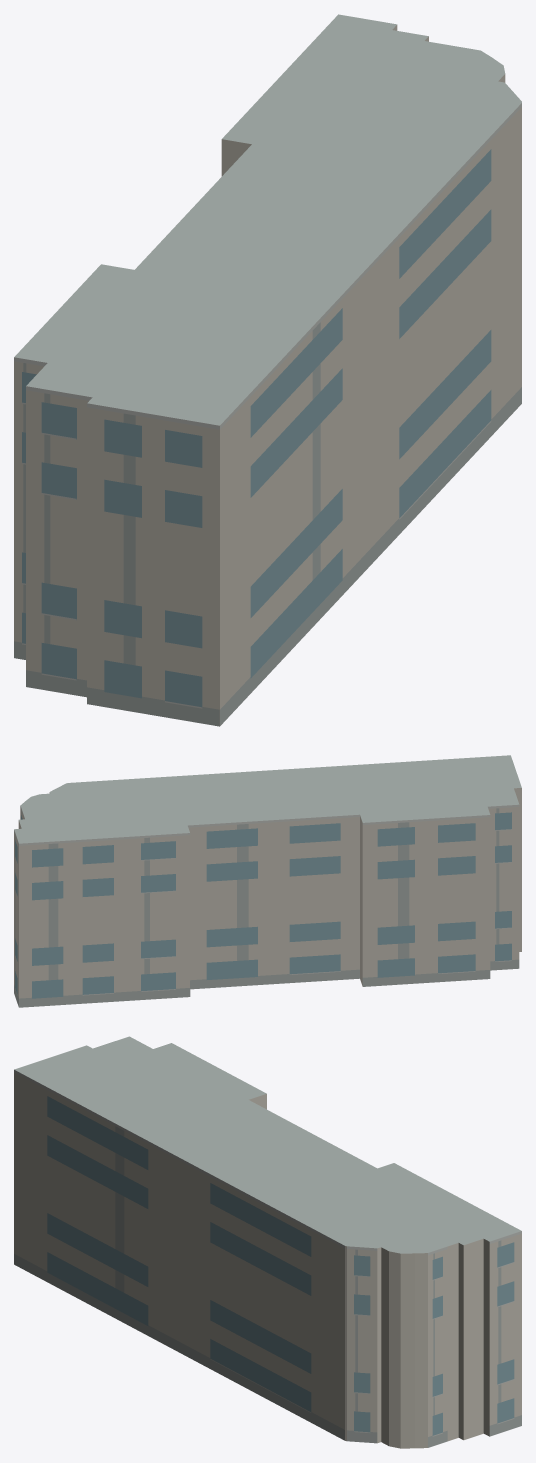
File: survey-upis-32617697.glb
3 views of the same model, one above another, from view 1: azimuth 30°, elevation 25°; view 2: azimuth 150°, elevation 25°; view 3: azimuth 270°, elevation 25° (orthographic). The views are drawn at different scales.
Visible parts, largest first — view 1: survey-upis-32617697.tmp; view 2: survey-upis-32617697.tmp; view 3: survey-upis-32617697.tmp.
Part boxes in pixels (<box>): survey-upis-32617697.tmp: <box>14,14,521,726</box>; survey-upis-32617697.tmp: <box>14,755,521,1007</box>; survey-upis-32617697.tmp: <box>14,1036,521,1448</box>.
Bounding box in the file's own units: 43.51 × 18.21 × 43.
